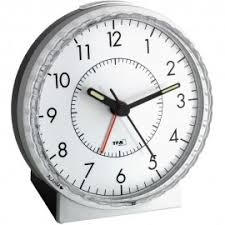alarm_clock: (11, 0, 212, 224), (18, 0, 212, 224)
